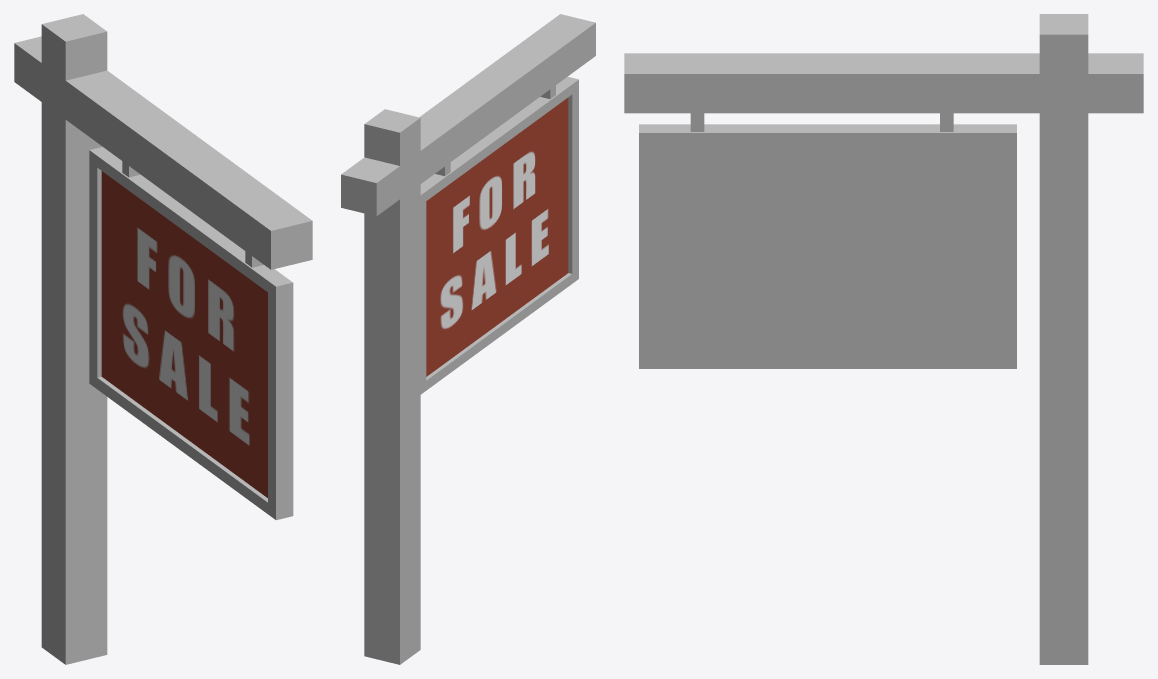
Rendered from for_sale_sign.fbx.
3 views of the same model, side by side, from view 1: azimuth 30°, elevation 25°; view 2: azimuth 150°, elevation 25°; view 3: azimuth 270°, elevation 25° (orthographic). The views are drawn at different scales.
Visible parts, largest first — view 1: Cube; view 2: Cube; view 3: Cube.
Part boxes in pixels (x1,y1,x2,y2): Cube: (14, 14, 312, 664); Cube: (341, 14, 595, 664); Cube: (624, 14, 1143, 664).
Bounding box in the file's own units: 43.92 × 629 × 469.
